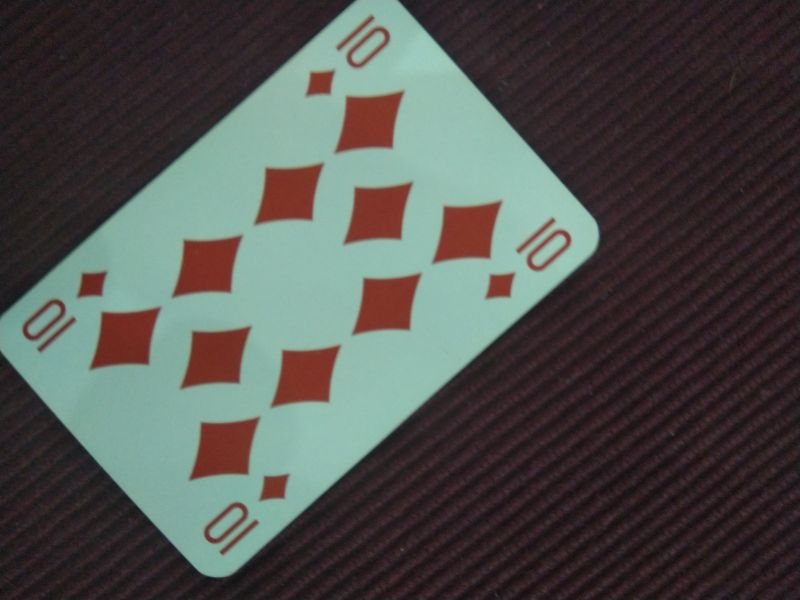Td: (199, 470, 294, 560), (481, 215, 575, 303), (19, 269, 110, 358), (299, 13, 394, 98)
